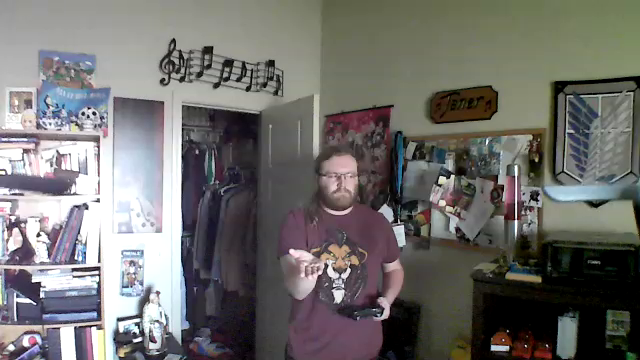land: (284, 243, 334, 285)
